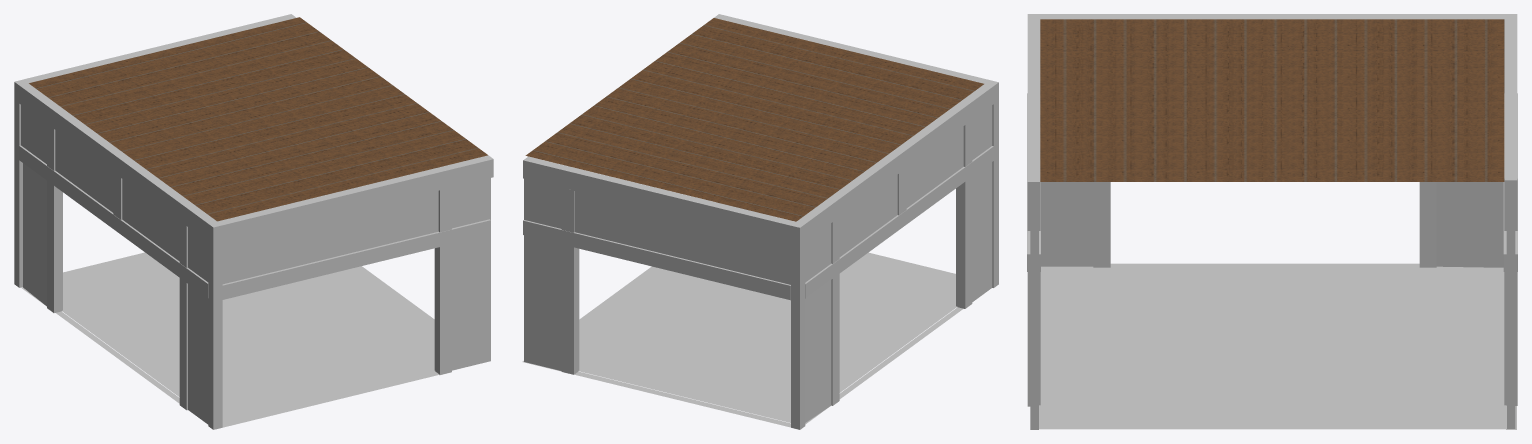
The model's file is 精神世界の一部屋 続き 前左右.fbx.
The picture shows the model from 3 angles, left to right: view 1: azimuth 30°, elevation 25°; view 2: azimuth 150°, elevation 25°; view 3: azimuth 270°, elevation 25°; orthographic projection. The views are drawn at different scales.
Visible parts, largest first — view 1: 平面.043, 畳.001, 立方体.016, 立方体.008, 立方体.009, 平面.029, 平面.027, 平面.035, 平面.033, 平面.023, 立方体.013, 平面.037 (+7 smaller); view 2: 平面.043, 畳.001, 立方体.010, 立方体.008, 平面.026, 平面.027, 立方体.017, 平面.032, 立方体.013, 平面.033, 平面.022, 平面.039 (+7 smaller); view 3: 畳.001, 平面.043, 立方体.013, 立方体.012, 平面.027, 平面.029, 平面.026, 立方体.009, 平面.030, 平面.031, 立方体.017, 立方体.007 (+4 smaller).
Boxes of the visible parts, x1,y1,x2,y2 form: 平面.043: (29,17,487,221); 畳.001: (62,255,434,422); 立方体.016: (222,190,438,284); 立方体.008: (21,105,208,281); 立方体.009: (452,178,490,370); 平面.029: (217,155,493,243); 平面.027: (19,83,216,241); 平面.035: (222,219,490,299); 平面.033: (19,145,208,297); 平面.023: (208,221,222,429); 立方体.013: (23,163,46,306); 平面.037: (434,187,451,374); 平面.043: (525,18,983,221); 畳.001: (578,255,957,422); 立方体.010: (524,178,790,284); 立方体.008: (805,105,992,282); 平面.026: (523,156,795,243); 平面.027: (796,84,993,241); 立方体.017: (524,235,561,370); 平面.032: (523,220,790,300); 立方体.013: (805,280,831,422); 平面.033: (805,146,993,298); 平面.022: (791,222,805,429); 平面.039: (561,187,579,374); 畳.001: (1039,266,1506,429); 平面.043: (1040,19,1504,181); 立方体.013: (1436,182,1503,267); 立方体.012: (1041,182,1093,266); 平面.027: (1040,14,1504,19); 平面.029: (1027,19,1040,204); 平面.026: (1504,19,1517,202); 立方体.009: (1030,204,1038,429); 平面.030: (1093,182,1110,267); 平面.031: (1419,182,1436,267); 立方体.017: (1507,272,1515,428); 立方体.007: (1110,263,1419,266).
Size of the model in its own units: 463 by 320 by 571.
